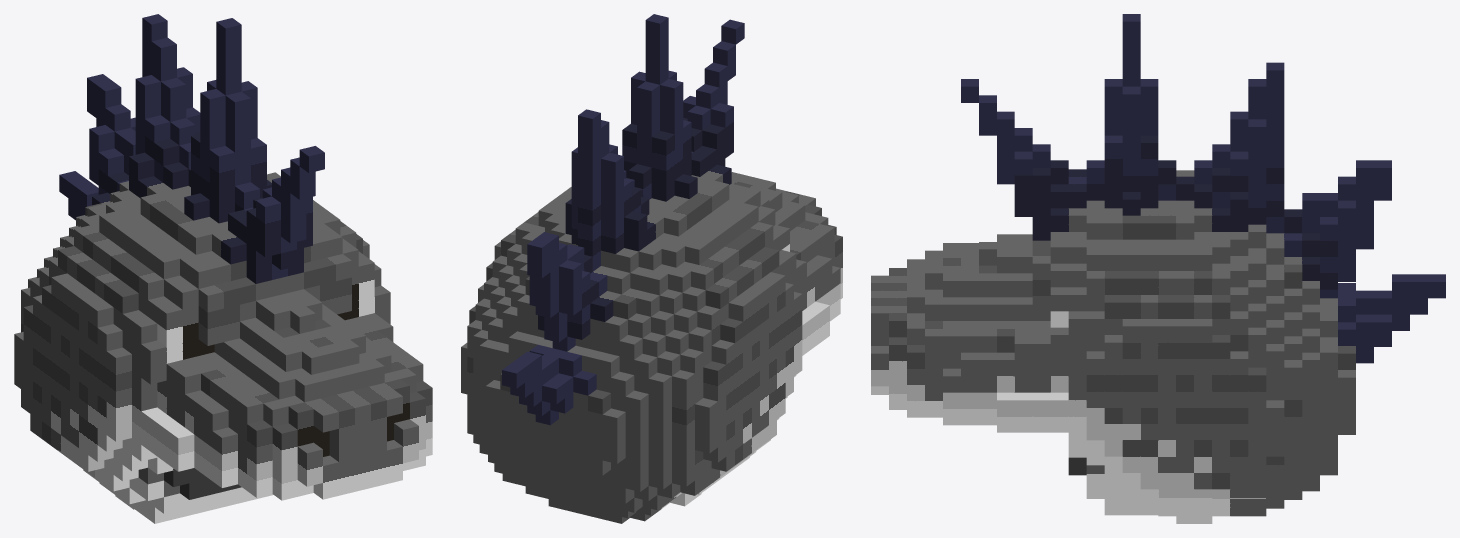
Rendered from black mohawk.gltf.
3 renders of one model, left to right at view 1: azimuth 30°, elevation 25°; view 2: azimuth 150°, elevation 25°; view 3: azimuth 270°, elevation 25°, orthographic. The views are drawn at different scales.
Visible parts, largest first — view 1: 02_Zilla_Head_BlackMohawk-Mesh; view 2: 02_Zilla_Head_BlackMohawk-Mesh; view 3: 02_Zilla_Head_BlackMohawk-Mesh.
Part boxes in pixels (x1,y1,x2,y2): 02_Zilla_Head_BlackMohawk-Mesh: [14, 14, 432, 523]; 02_Zilla_Head_BlackMohawk-Mesh: [461, 14, 842, 523]; 02_Zilla_Head_BlackMohawk-Mesh: [871, 14, 1445, 523].
Size of the model in its own units: 17 by 29 by 32.
Materials: 1 (1 with a texture image).
